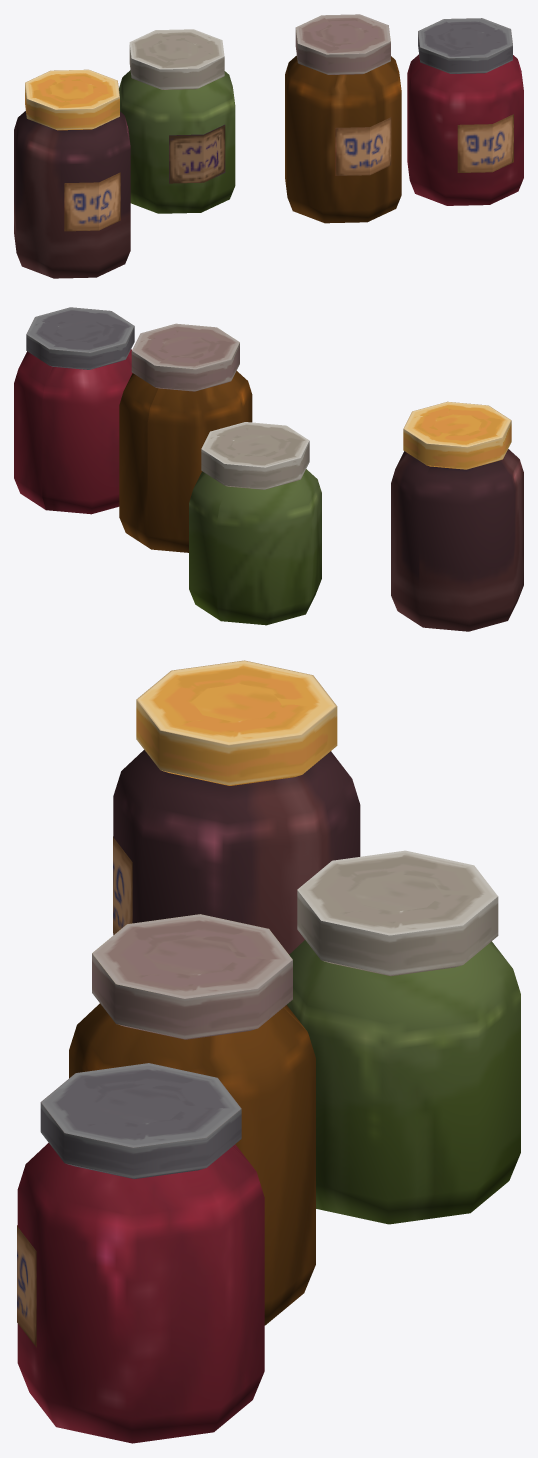
File: Jar_Group3_uo.fbx
The picture shows the model from 3 angles, top to bottom: view 1: azimuth 30°, elevation 25°; view 2: azimuth 150°, elevation 25°; view 3: azimuth 270°, elevation 25°; orthographic projection. The views are drawn at different scales.
Parts seen in each view (by area): view 1: Jar_Group3; view 2: Jar_Group3; view 3: Jar_Group3.
Part boxes in pixels (bbox=[...]): Jar_Group3: bbox=[14, 14, 523, 278]; Jar_Group3: bbox=[14, 307, 523, 631]; Jar_Group3: bbox=[17, 660, 520, 1443].
Bounding box in the file's own units: 61.23 × 20.45 × 28.07.
1 material, 1 textured.
